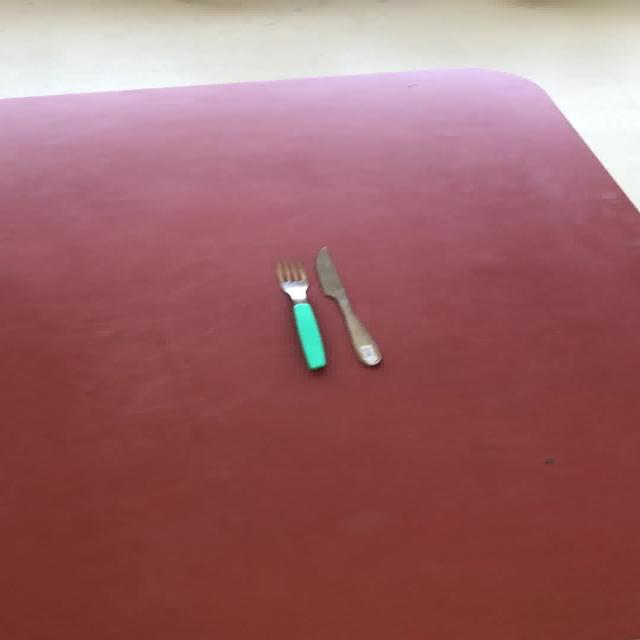fork: (273, 260, 326, 370)
knife fork: (313, 245, 382, 366)
